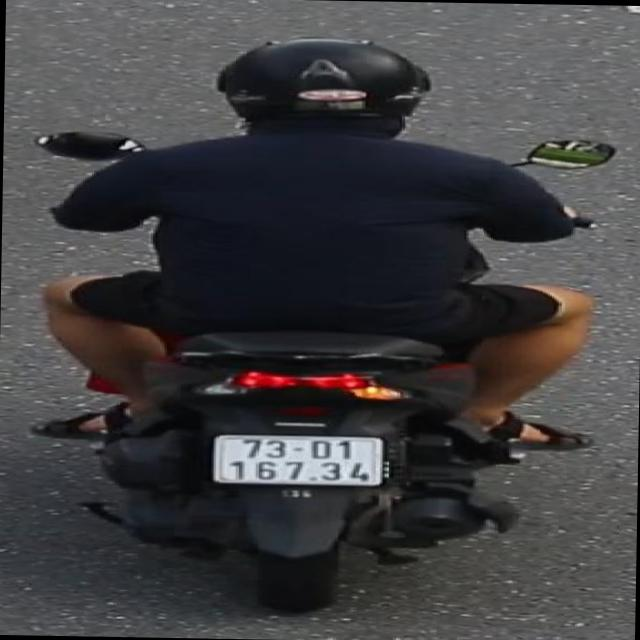LP: (207, 428, 386, 488)
helmet: (204, 24, 442, 153)
